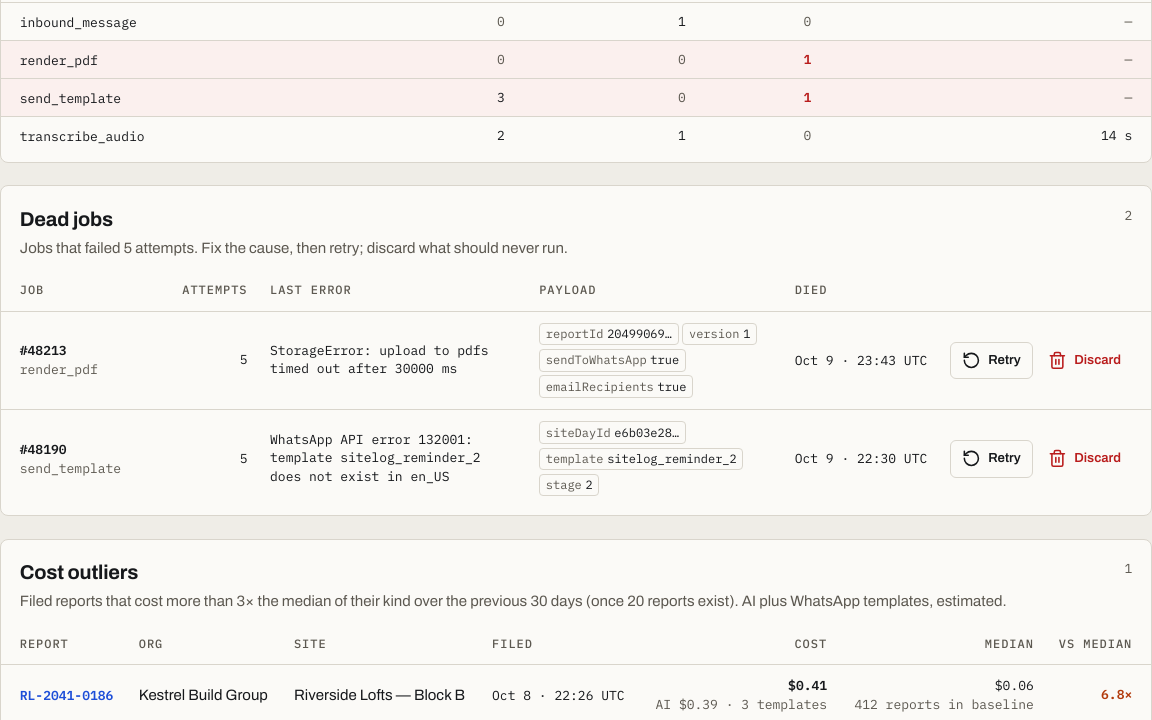
it: OpsPage (demo data) › retries a dead job after confirming, refreshes the lists and records the operator
The image size is (1152, 720).
(page scrolled)
Click the button with aria-label "Retry job 48213": (991, 360) [950,342,1033,379]
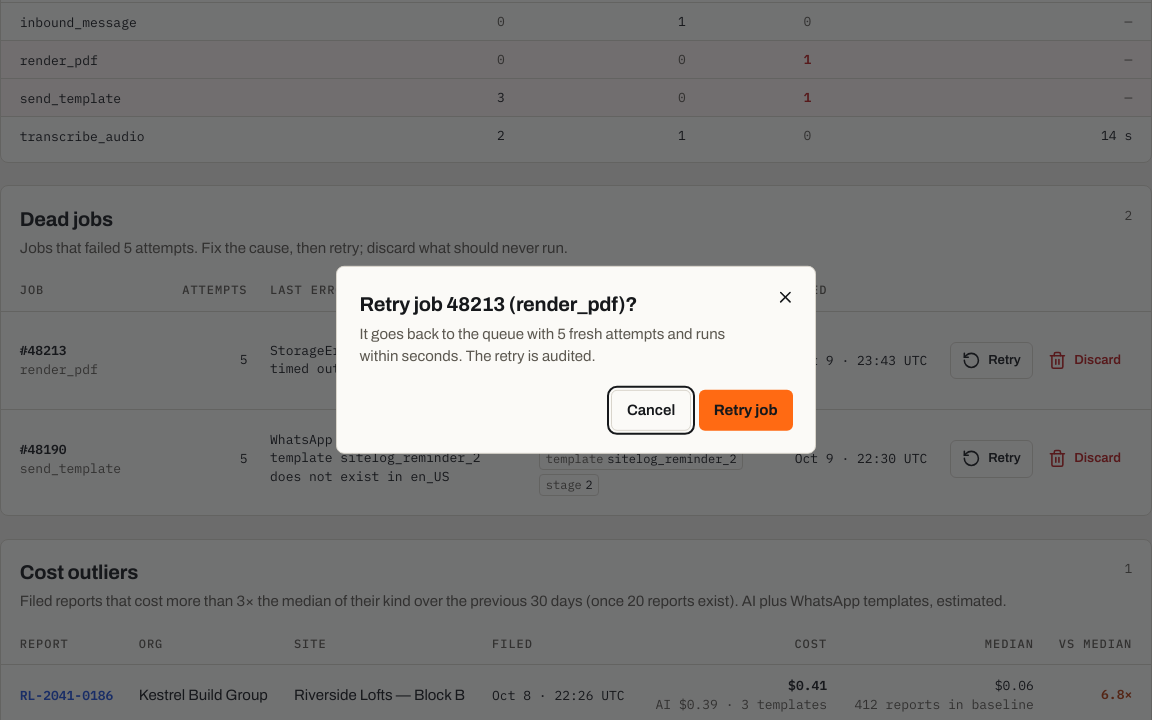
Expected: the dialog shows "Retry job 48213 (render_pdf)?", [360,292,637,314]
Expected: the dialog shows "5 fresh attempts", [360,326,725,364]
Click the button "Retry job": (746, 410) [699,389,792,431]
(page scrolled)
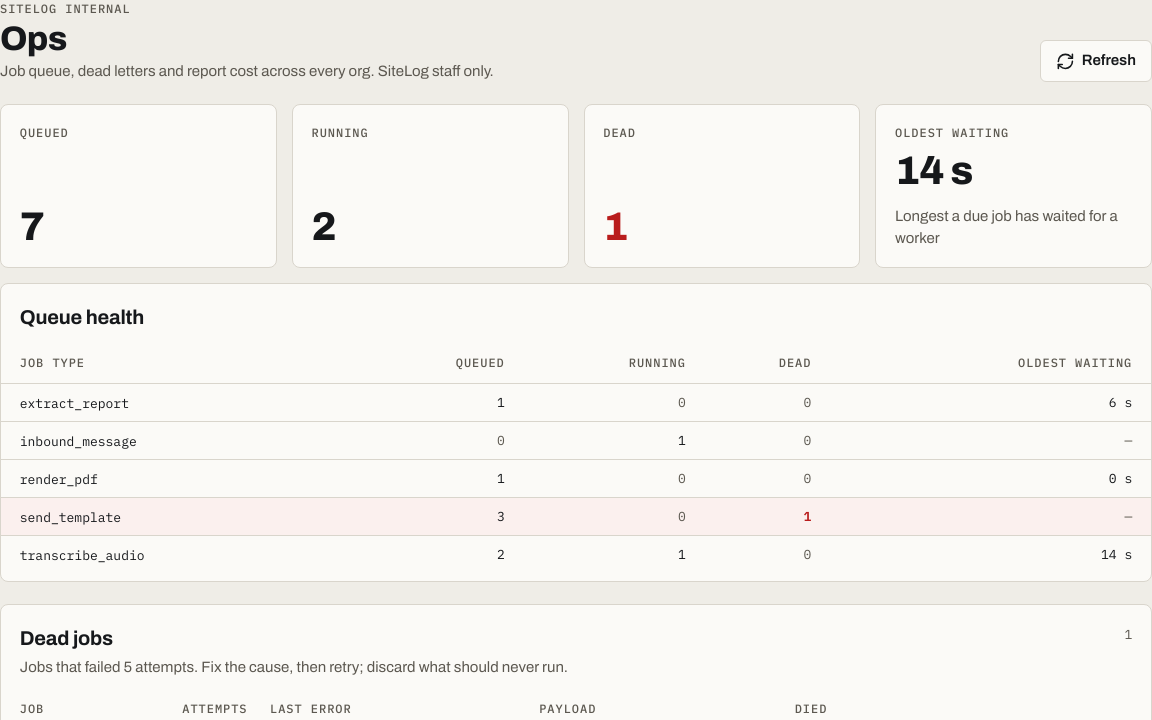
Expected: the dialog is gone
Expected: the text "#48213" is gone
